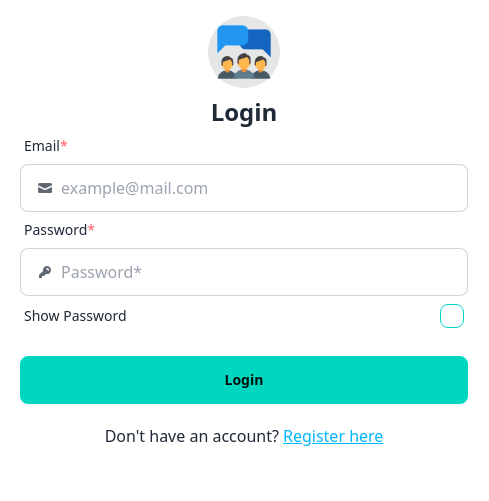
Test case: Login spec › should render alert when password is empty
Type "johndoe@mail.co.id" into the field with placeholder "example@mail.com" at (256, 188), box [61,176,451,200]
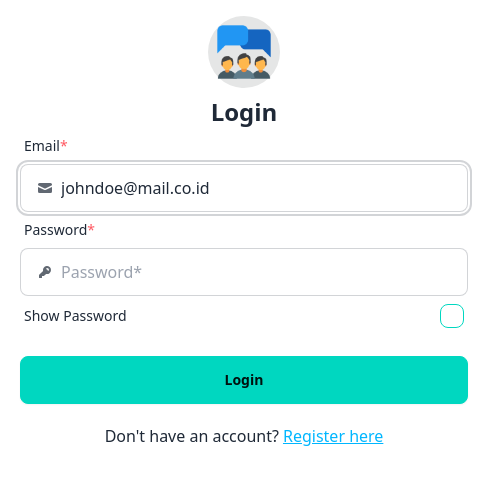
Click the button "Login" at (244, 380), box [20,356,468,404]
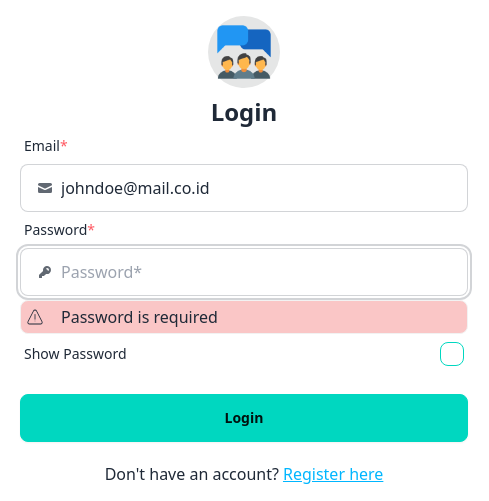
expect the element showing "Email*" is shown: met, box [24,136,68,156]
expect the text "Password is required" is shown: met, box [61,305,218,329]
